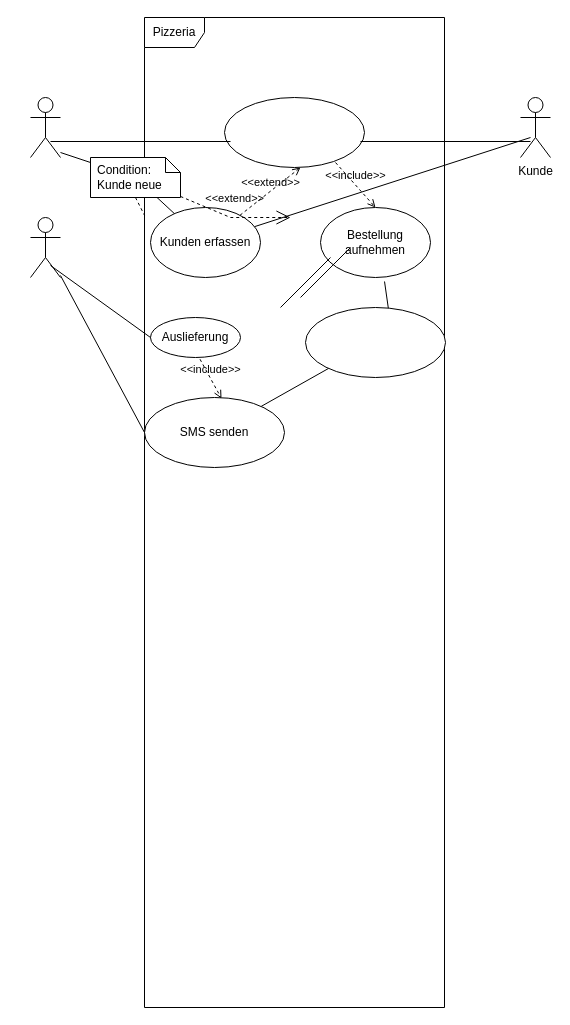
The diagram is 570 pixels wide and 1025 high, and some of its shapes have lost their labels. Here are the shapes that lost their labels. From the top down, the centre of each, then its label:
pixel 45 127: Mitarbeiter
pixel 294 132: Bestellanruf
pixel 45 247: Fahrer
pixel 375 342: Selbstabholung
